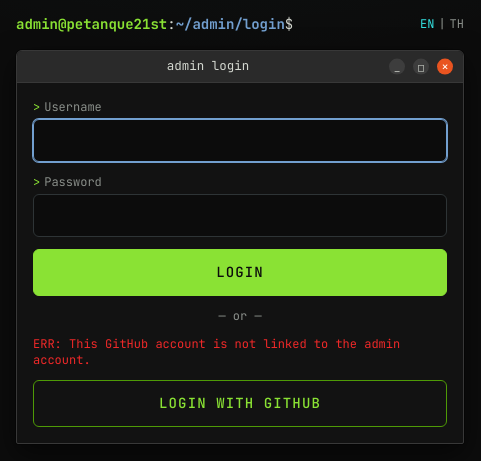
it: shows server errors and the github_not_linked query error
Expected: the text "ERR: This GitHub account is not linked to the admin account." is shown, [33, 336, 447, 368]
Type "admin" into the field labelled "Username" at (240, 140), box [33, 119, 447, 162]
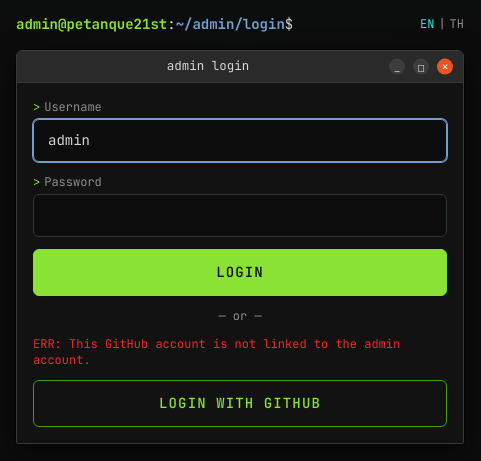
Type "wrong-password" into the password field labelled "Password" at (240, 216), box [33, 194, 447, 237]
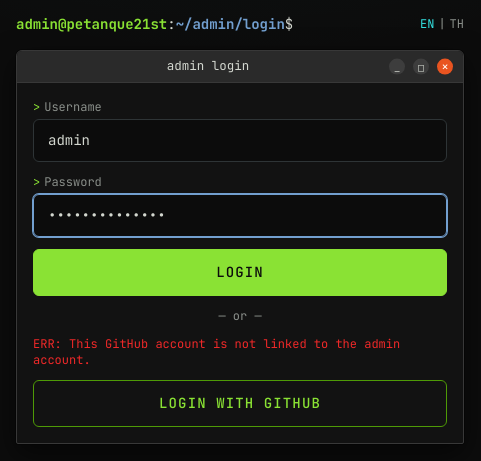
Click the button "Login" at (240, 272), box [33, 249, 447, 296]
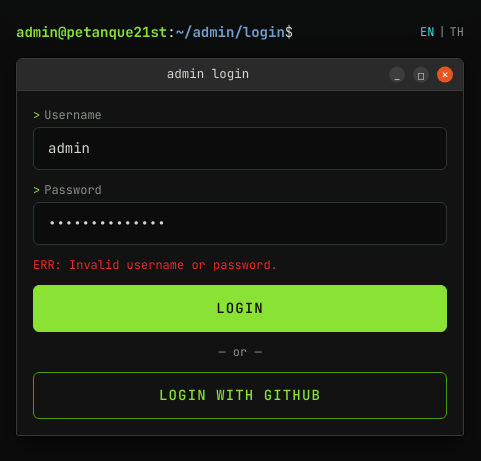
Now the message shows "Invalid username or password", box [69, 257, 278, 273]
